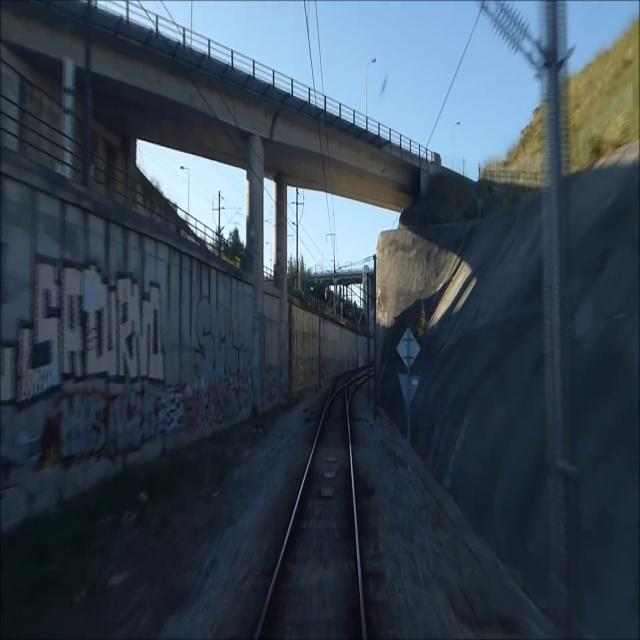rail-track: (259, 391, 361, 639), (333, 377, 344, 391)
